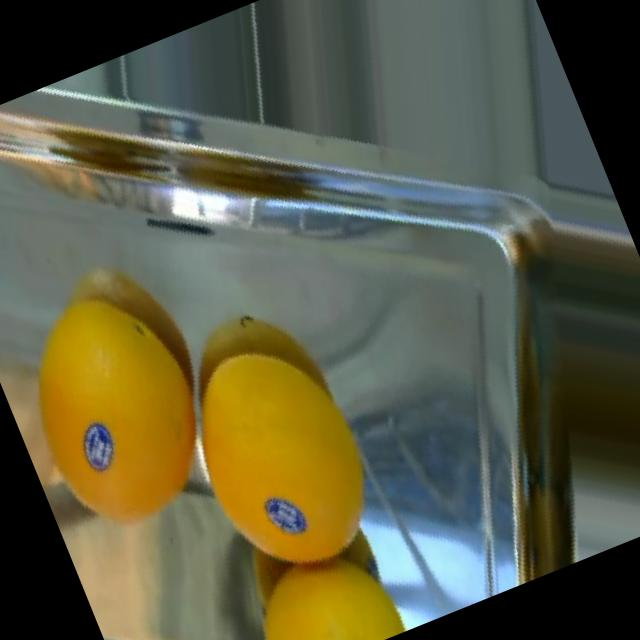Fruit: (197, 490, 407, 640)
